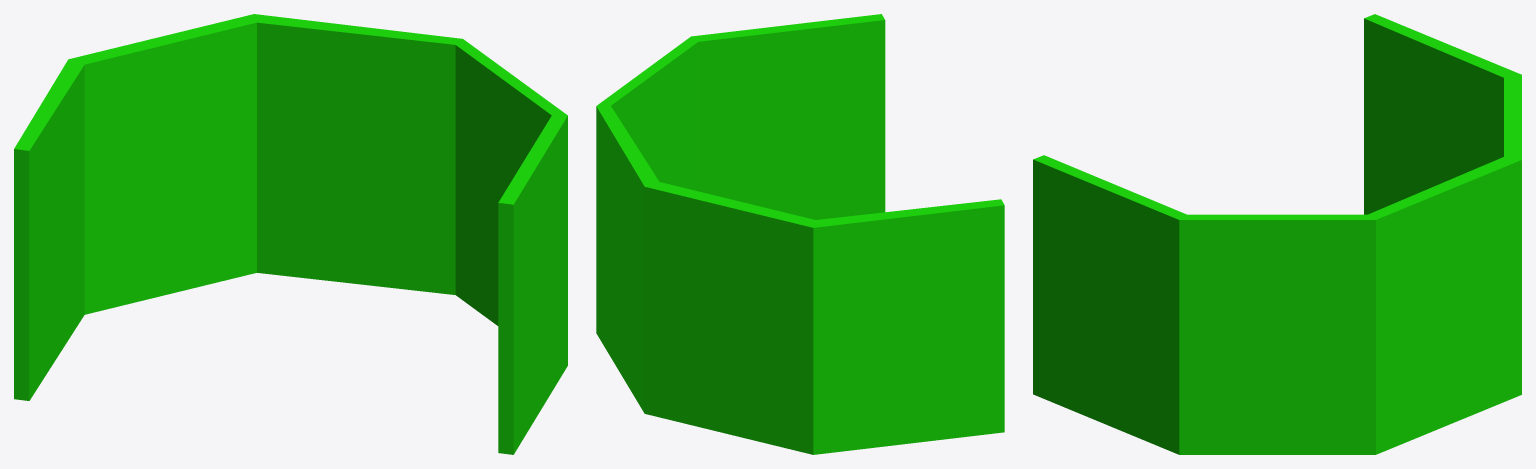
File: sm_wall_270_collider_updated.fbx
3 views of the same model, side by side, from view 1: azimuth 30°, elevation 25°; view 2: azimuth 150°, elevation 25°; view 3: azimuth 270°, elevation 25° (orthographic). The views are drawn at different scales.
Parts seen in each view (by area): view 1: Cube.008; view 2: Cube.008; view 3: Cube.008.
Part boxes in pixels (box(x1,y1,x2,y2)): Cube.008: box(14, 14, 567, 454); Cube.008: box(596, 14, 1004, 454); Cube.008: box(1033, 14, 1521, 454).
Bounding box in the file's own units: 14.59 × 7.76 × 14.63.
